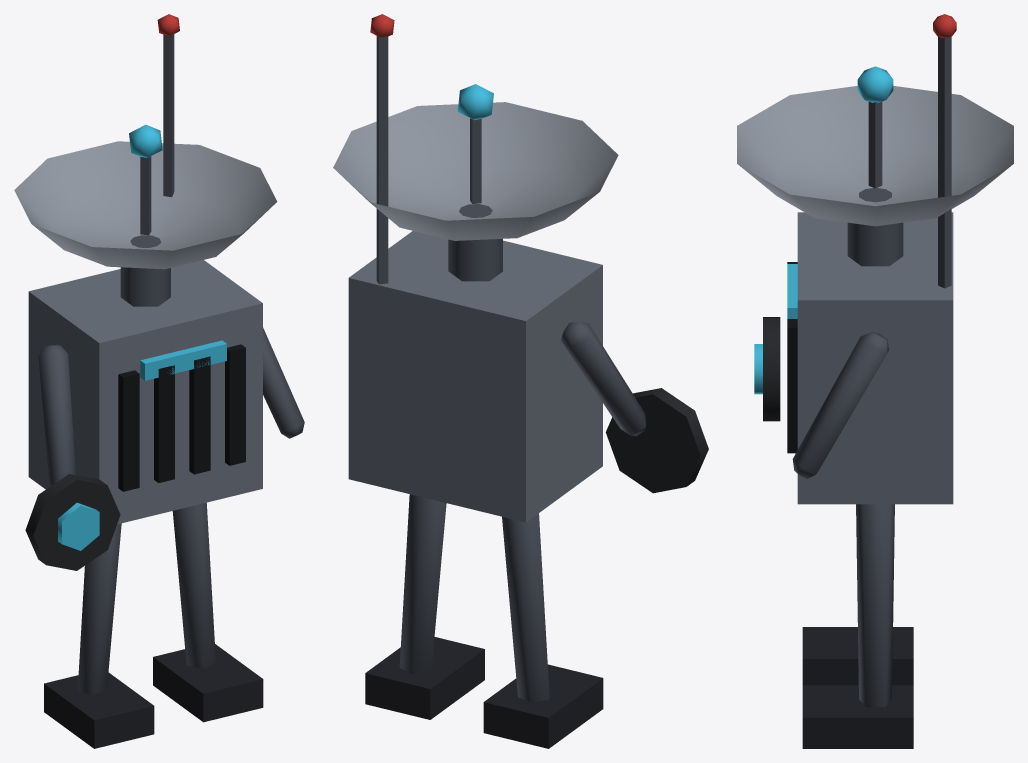
Rendered from e_maschinen_stoersender.glb.
3 renders of one model, left to right at view 1: azimuth 30°, elevation 25°; view 2: azimuth 150°, elevation 25°; view 3: azimuth 270°, elevation 25°, orthographic. The views are drawn at different scales.
Parts seen in each view (by area): view 1: body; view 2: body; view 3: body.
Part boxes in pixels (x1,y1,x2,y2): body: (14,14,304,748); body: (333,14,708,748); body: (737,14,1013,748).
Size of the model in its own units: 1.06 by 2.29 by 0.7989.
